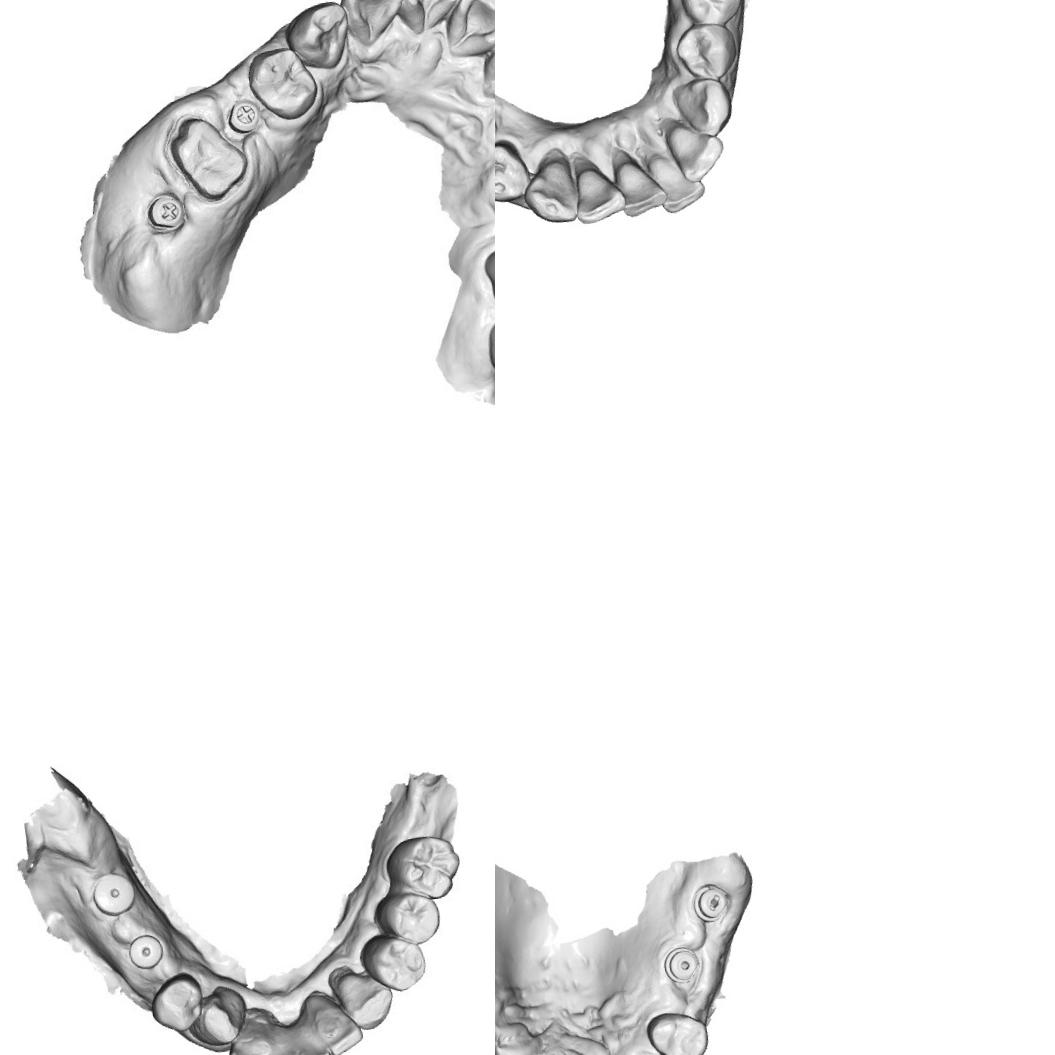canine: (281, 0, 355, 75), (328, 960, 398, 1035), (182, 981, 250, 1050), (520, 156, 584, 228), (670, 74, 737, 142)
crown: (165, 108, 252, 208)
implant: (90, 869, 138, 919), (660, 943, 702, 987), (126, 930, 167, 972)
implant_minus: (688, 880, 735, 926)
implant_plus: (136, 189, 188, 235), (226, 98, 264, 138)
incisor: (663, 115, 726, 186), (614, 152, 670, 220), (436, 0, 495, 62), (570, 166, 627, 229), (336, 0, 405, 48), (654, 159, 708, 217), (393, 0, 471, 40), (469, 32, 495, 104), (321, 1016, 365, 1055), (261, 1023, 300, 1055), (224, 1032, 271, 1055), (295, 1038, 333, 1055)
molar: (382, 832, 466, 906)
premolar: (241, 40, 320, 126), (358, 928, 430, 997), (670, 20, 739, 86), (371, 888, 444, 950), (146, 970, 207, 1036), (642, 1006, 714, 1055), (495, 137, 530, 206), (675, 0, 746, 30)
